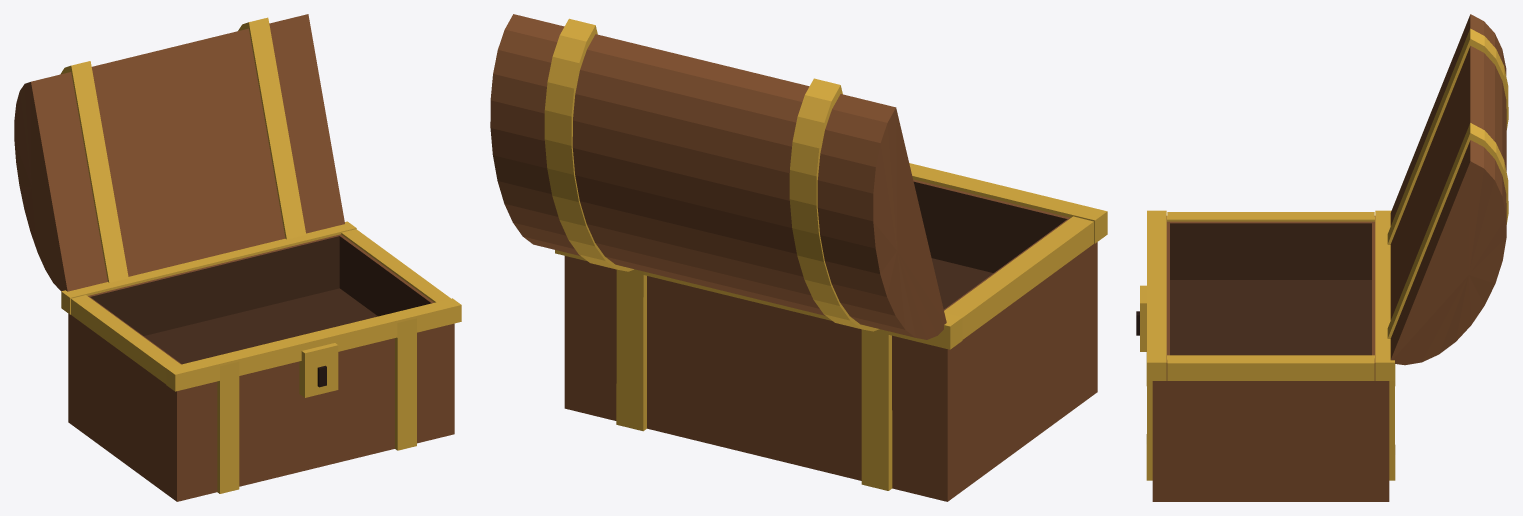
File: treasure_chest.glb
3 renders of one model, left to right at view 1: azimuth 30°, elevation 25°; view 2: azimuth 150°, elevation 25°; view 3: azimuth 270°, elevation 25°, orthographic. The views are drawn at different scales.
Parts seen in each view (by area): view 1: treasure_chest_lid, treasure_chest_body, treasure_chest_bands, treasure_chest_lock; view 2: treasure_chest_lid, treasure_chest_body, treasure_chest_bands; view 3: treasure_chest_body, treasure_chest_lid, treasure_chest_bands, treasure_chest_lock.
Boxes of the visible parts, box(x1,y1,x2,y2) form: treasure_chest_lid: box(14, 14, 344, 291); treasure_chest_body: box(68, 234, 454, 501); treasure_chest_bands: box(61, 221, 461, 493); treasure_chest_lock: box(299, 343, 338, 397); treasure_chest_lid: box(490, 14, 946, 339); treasure_chest_body: box(564, 179, 1097, 501); treasure_chest_bands: box(555, 163, 1107, 490); treasure_chest_body: box(1152, 216, 1389, 501); treasure_chest_lid: box(1387, 14, 1508, 365); treasure_chest_bands: box(1146, 210, 1395, 480); treasure_chest_lock: box(1136, 285, 1146, 351).
Size of the model in its own units: 0.5161 by 0.5505 by 0.5338.
1 material, 1 textured.
